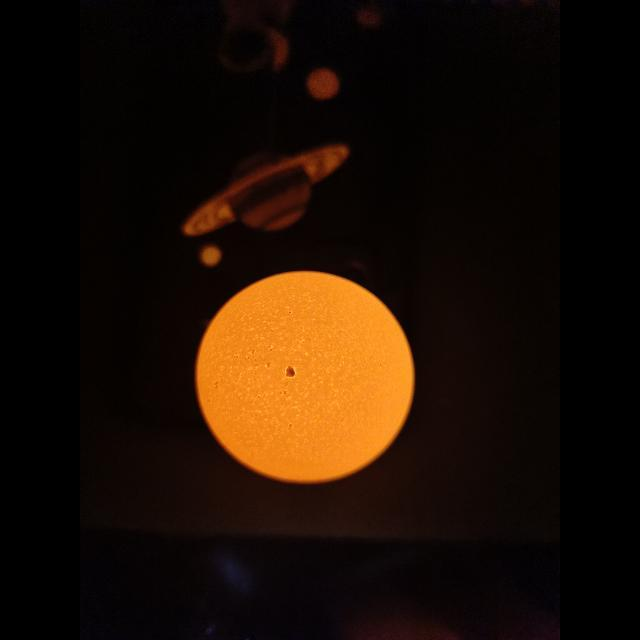AA - Premium: (195, 271, 415, 483)
